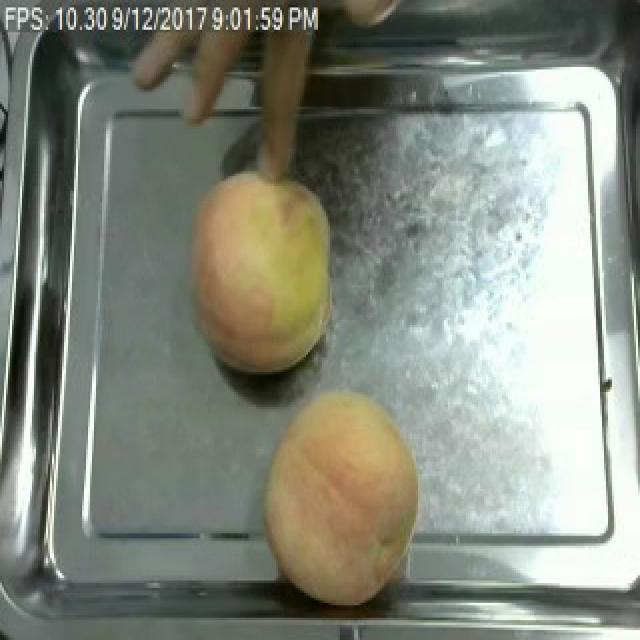Fruit: (252, 380, 430, 612), (180, 161, 346, 382)
